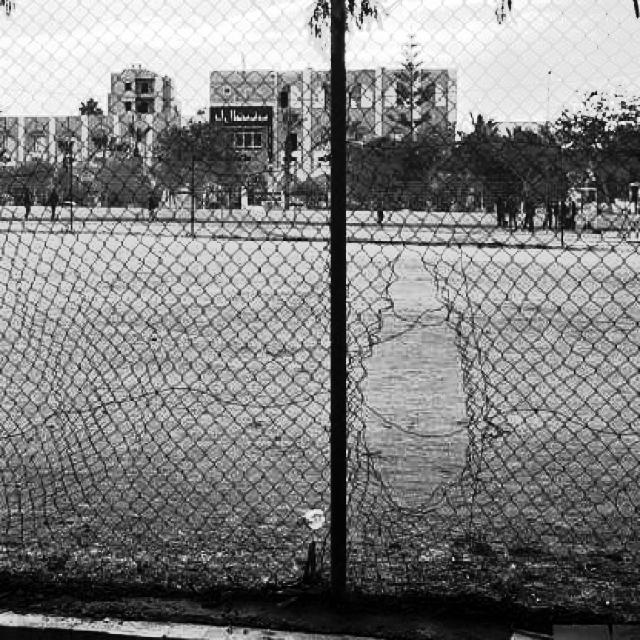anomaly-fence: (354, 187, 536, 568)
fences: (17, 16, 277, 576)
